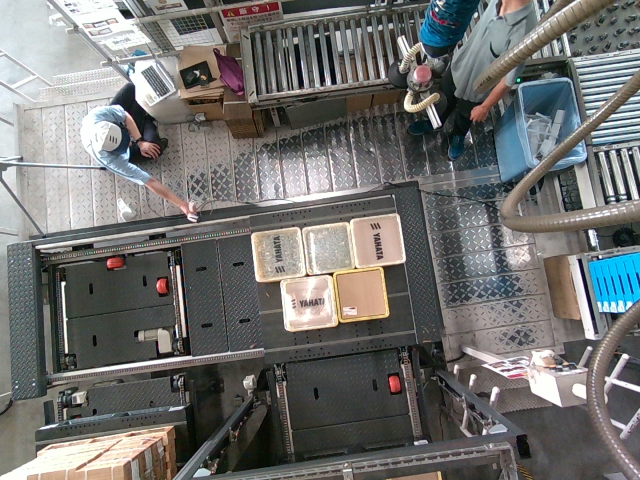box: (252, 227, 302, 279), (303, 223, 353, 275), (353, 214, 403, 266), (334, 269, 384, 321), (284, 278, 334, 330)
